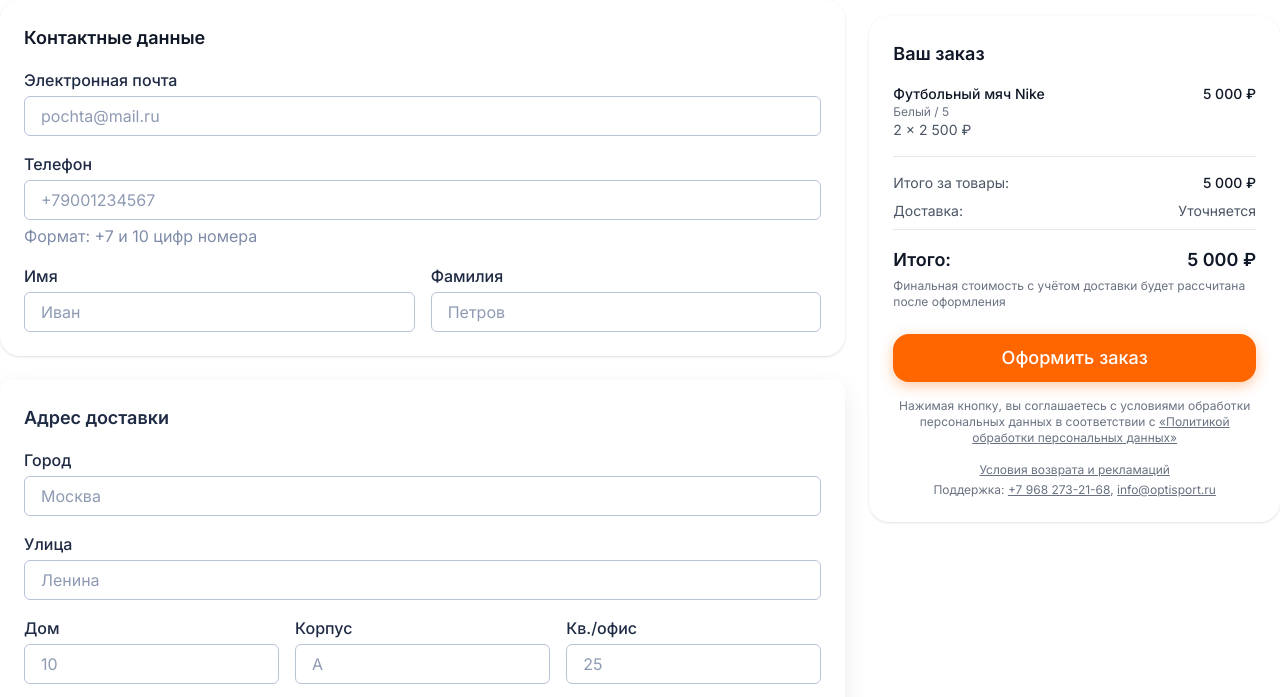
Test: CheckoutForm Integration › Отображение ошибок › показывает ошибку валидации формы
Пытаемся отправить пустую форму
Click the button "Оформить заказ" at (1075, 358), box [893, 334, 1256, 382]
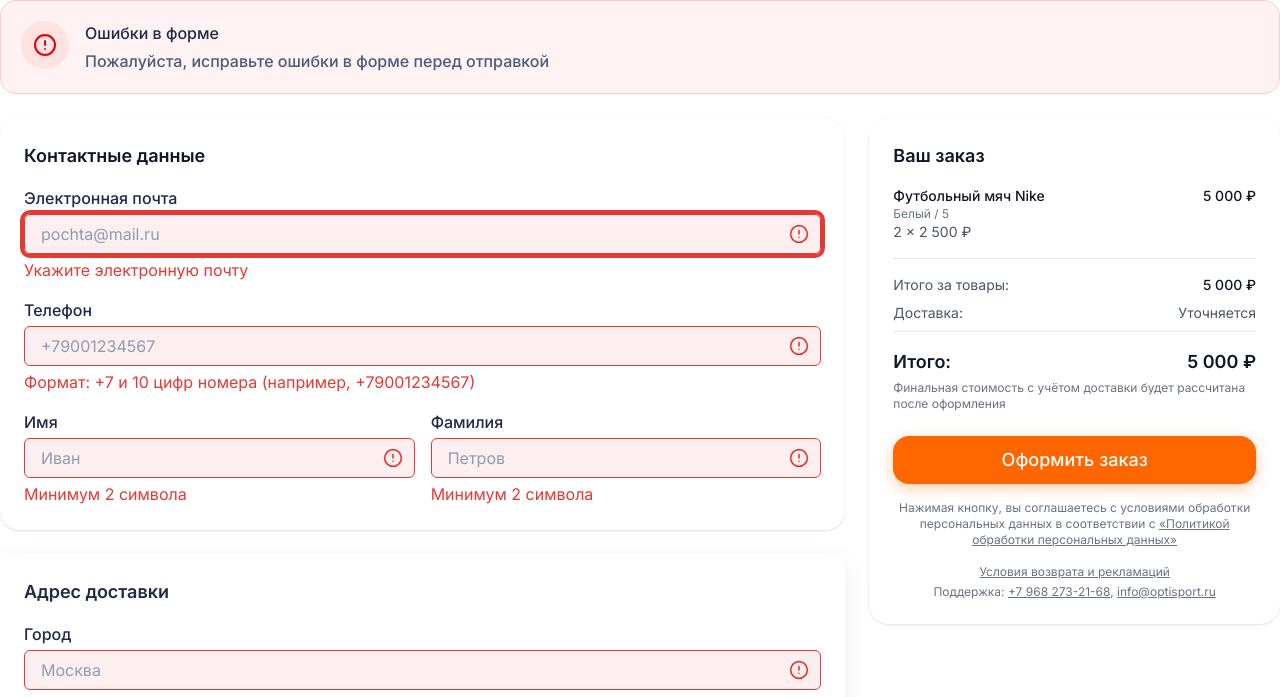
Expected: the text "Ошибки в форме" is shown, [85, 23, 219, 43]
